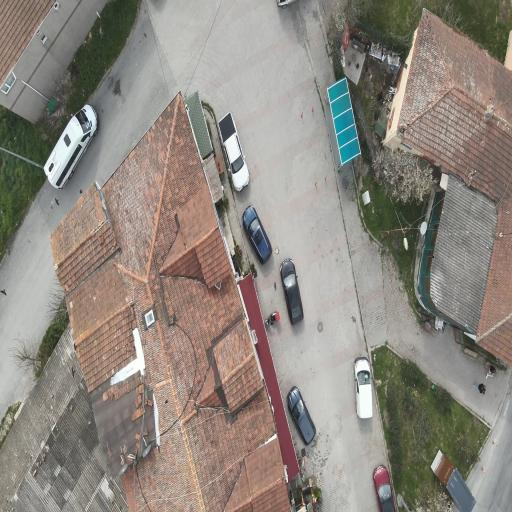car: (44, 104, 97, 189), (431, 451, 475, 511), (219, 112, 249, 191), (242, 205, 271, 263), (287, 386, 315, 445), (280, 259, 303, 324), (355, 357, 372, 418), (373, 466, 395, 511)
person: (486, 366, 495, 378), (478, 384, 485, 394)
